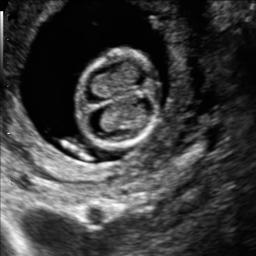normal: (76, 48, 163, 150)
